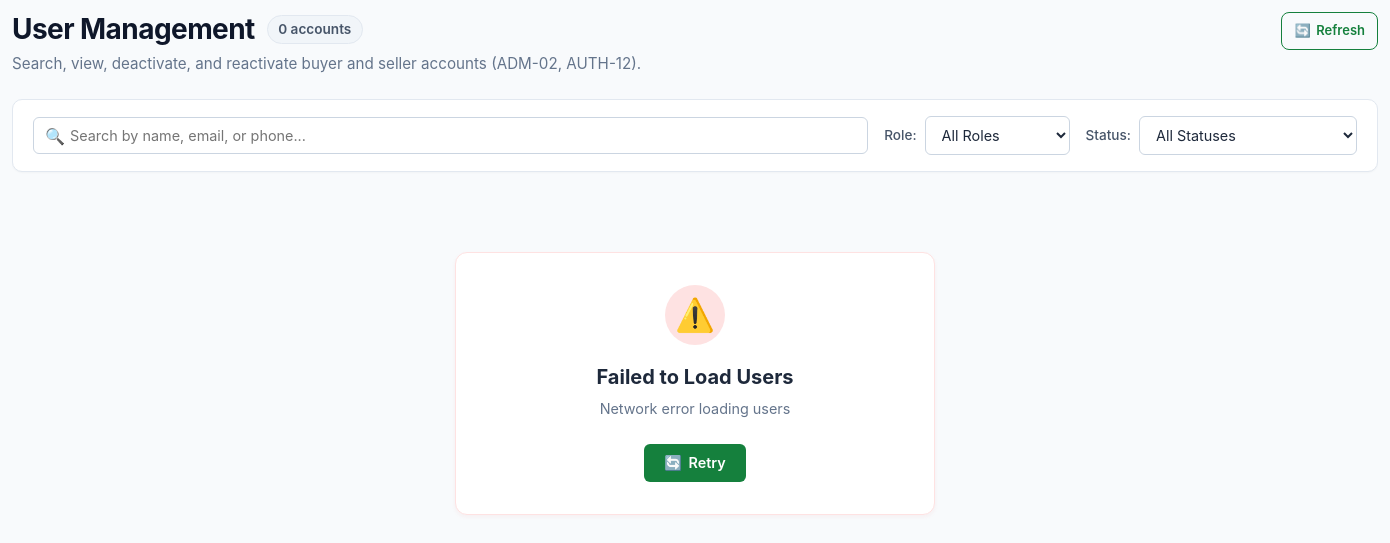
Scenario: FE-097 / ADM-02: Admin Users Management Page › 6. Empty & Error States › shows ErrorState with retry button when service request fails
Expected: the element with test id "users-error-state" is shown, [455,252,935,515]
Expected: the text "Network error loading users" is shown, [600,400,790,417]
Click the button "🔄 Retry" at (695, 463), box [644,444,746,482]
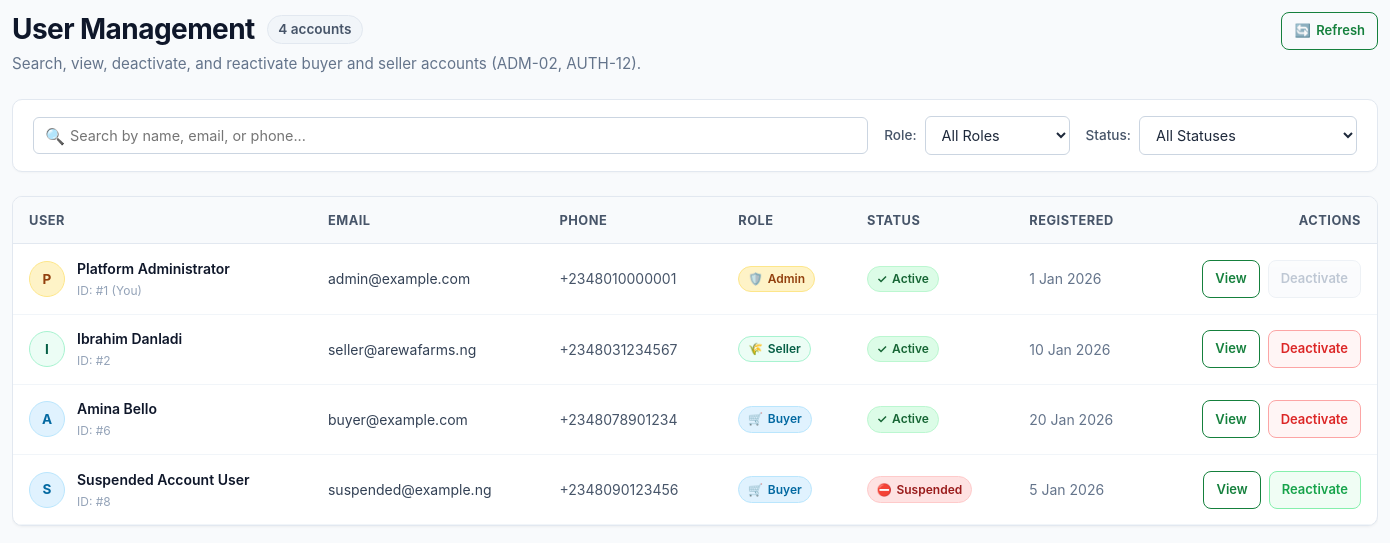
Result: the table with test id "users-table" is shown at [13,197,1377,525]
